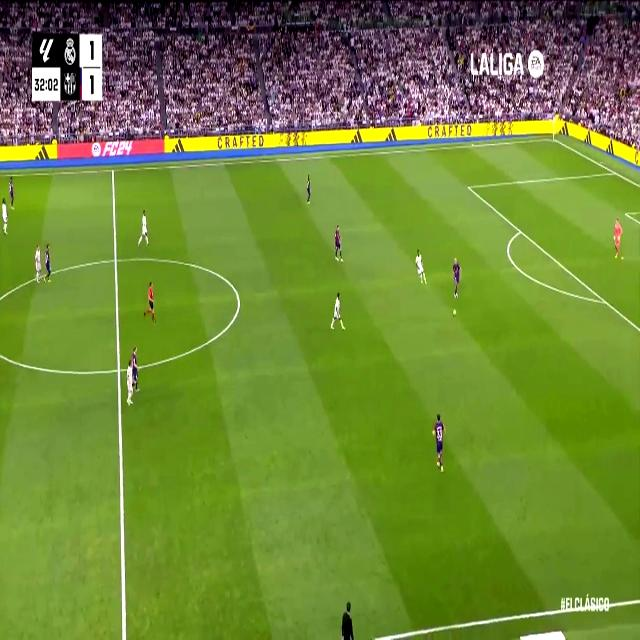bigarea_top_inner: (465, 179, 472, 193)
bigarea_top_outter: (610, 165, 618, 177)
bottom_arc_area_intersection: (600, 292, 609, 310)
halfcircle_bottom: (114, 358, 125, 382)
halfcircle_top: (110, 248, 122, 272)
midline_top_intersection: (110, 163, 116, 177)
smallarea_top_inner: (623, 208, 629, 219)
top_arc_area_intersection: (517, 222, 524, 238)
